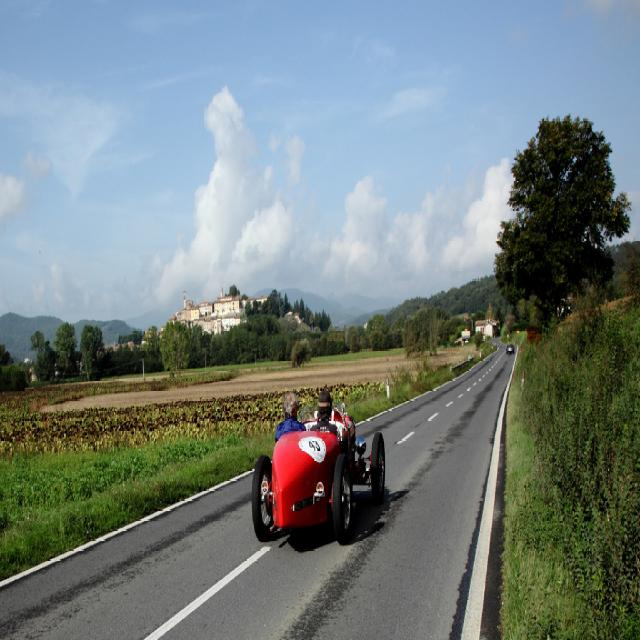car: (247, 398, 383, 539), (505, 341, 515, 353)
